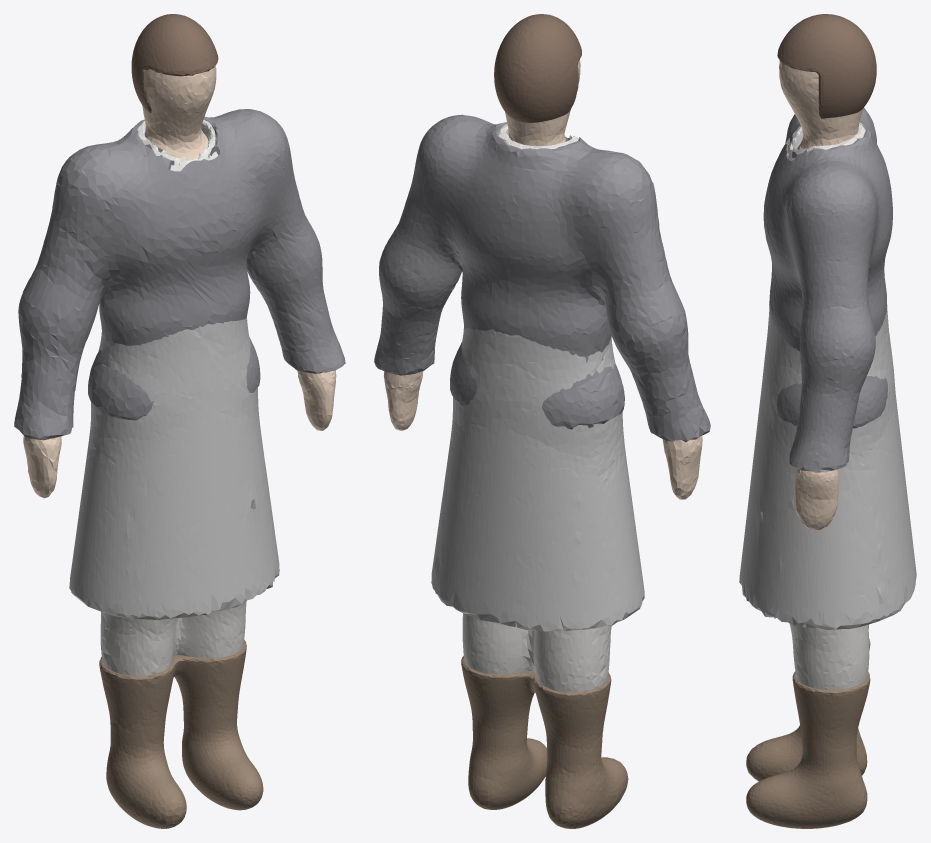
The model's file is male.glb.
3 views of the same model, side by side, from view 1: azimuth 30°, elevation 25°; view 2: azimuth 150°, elevation 25°; view 3: azimuth 270°, elevation 25° (orthographic).
Parts seen in each view (by area): view 1: top_jacket, dress, shoes_boot, skin, pants_long, hair, top_short; view 2: top_jacket, dress, shoes_boot, pants_long, hair, skin; view 3: top_jacket, dress, shoes_boot, hair, skin, pants_long, top_short.
Part boxes in pixels (x1=…): top_jacket: x1=14, y1=109, x2=345, y2=440; dress: x1=69, y1=317, x2=279, y2=619; shoes_boot: x1=99, y1=640, x2=263, y2=828; skin: x1=23, y1=65, x2=336, y2=498; pants_long: x1=100, y1=601, x2=246, y2=675; hair: x1=131, y1=14, x2=218, y2=113; top_short: x1=137, y1=119, x2=218, y2=171; top_jacket: x1=374, y1=114, x2=710, y2=441; dress: x1=431, y1=327, x2=644, y2=631; shoes_boot: x1=461, y1=656, x2=628, y2=828; pants_long: x1=462, y1=613, x2=611, y2=692; hair: x1=494, y1=14, x2=581, y2=122; skin: x1=384, y1=59, x2=702, y2=499; top_jacket: x1=763, y1=108, x2=892, y2=472; dress: x1=739, y1=307, x2=916, y2=629; shoes_boot: x1=746, y1=638, x2=870, y2=828; hair: x1=777, y1=14, x2=876, y2=118; skin: x1=779, y1=61, x2=862, y2=530; pants_long: x1=789, y1=624, x2=869, y2=689; top_short: x1=788, y1=122, x2=865, y2=160.
Size of the model in its own units: 0.7788 by 1.81 by 0.3688.
